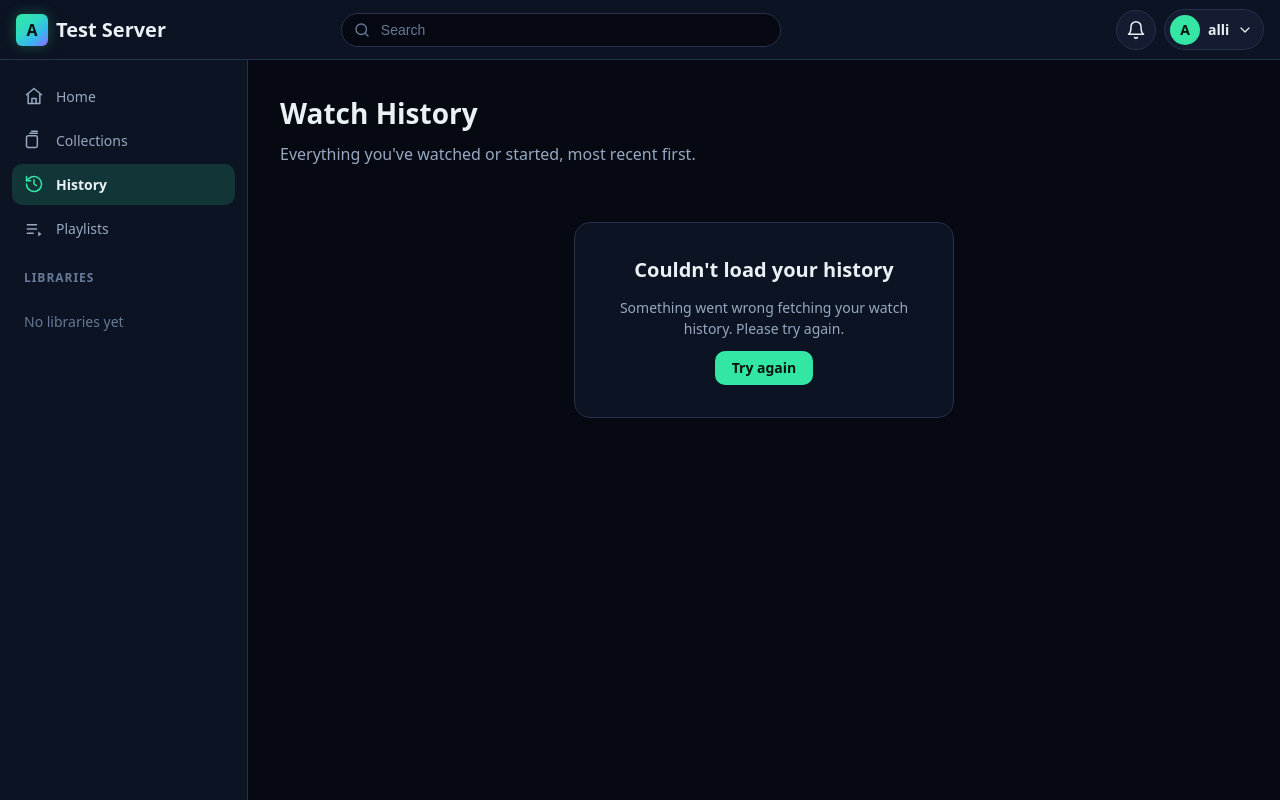
HistoryPage › surfaces an error with a retry
This screenshot has width=1280, height=800.
Check: the heading "Couldn't load your history" is shown, box [634, 255, 894, 285]
What coordinates should you click on to do the following:
click the button "Try again"
I would click on:
 (764, 368)
Its box is [715, 351, 813, 385].
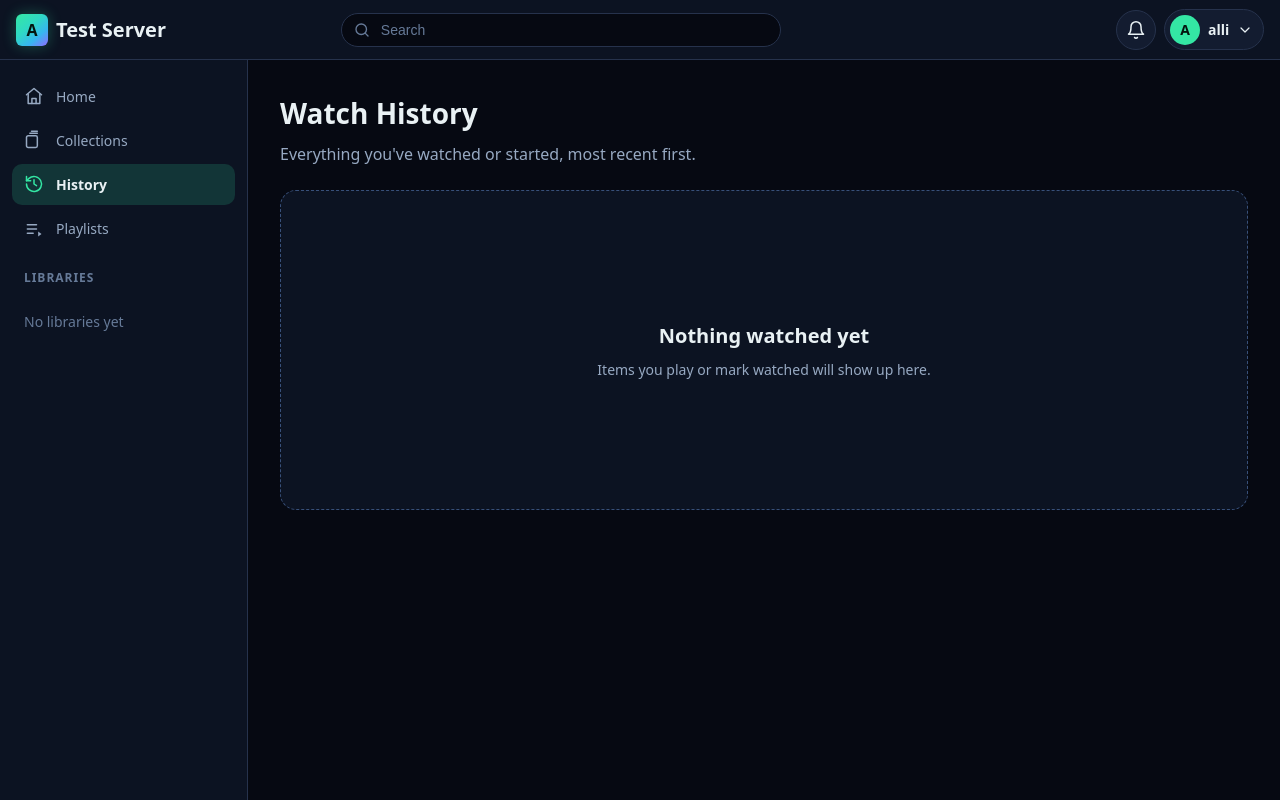
Check: the heading "Nothing watched yet" is shown, box [659, 320, 869, 350]
